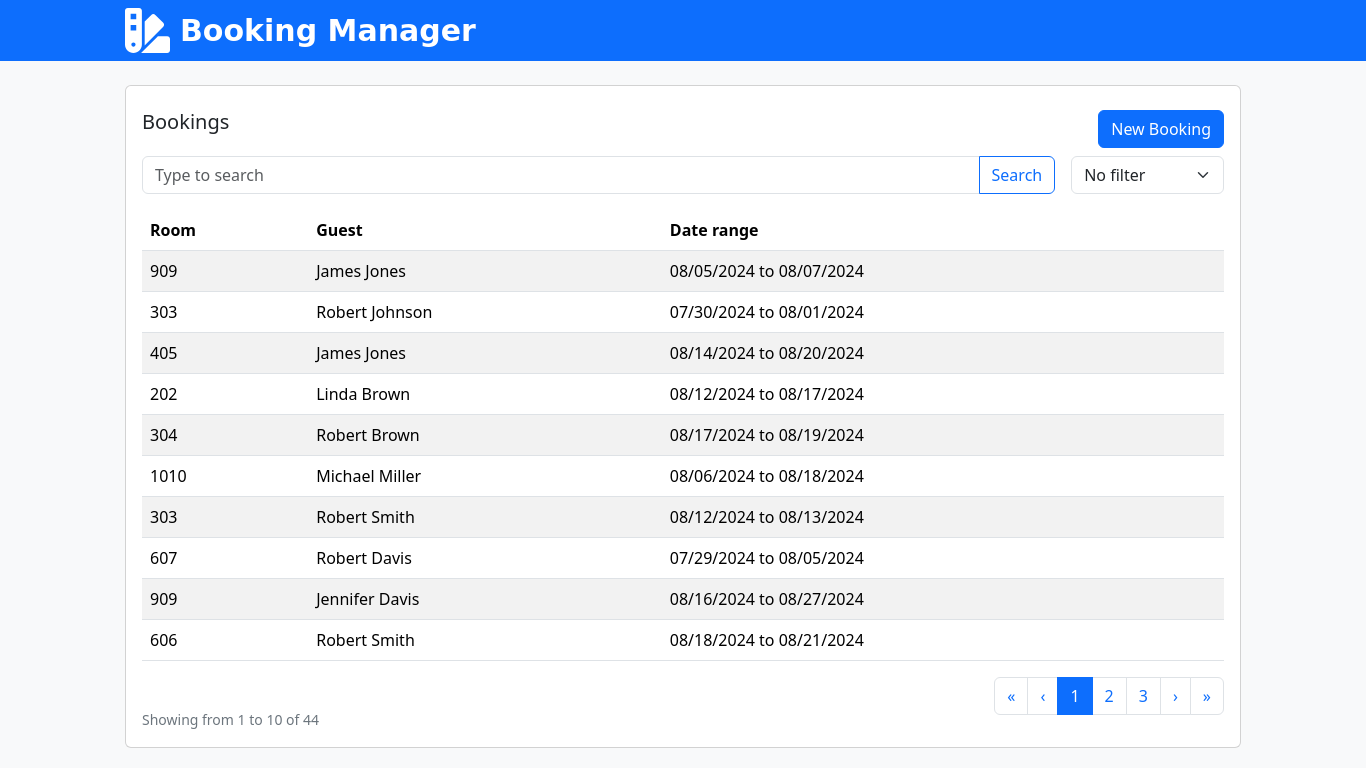
it: Import multiple reservations and test pagination and filters › Delete booking
Expected: the field with id "search-table-bookings" is shown, [142, 156, 980, 194]
Expected: the text with id "showing-table" reads "Showing from 1 to 10 of 44", [142, 710, 319, 729]
Click the row "909 James Jones 08/05/2024 to 08/07/2024" at (683, 272), box [142, 251, 1224, 292]
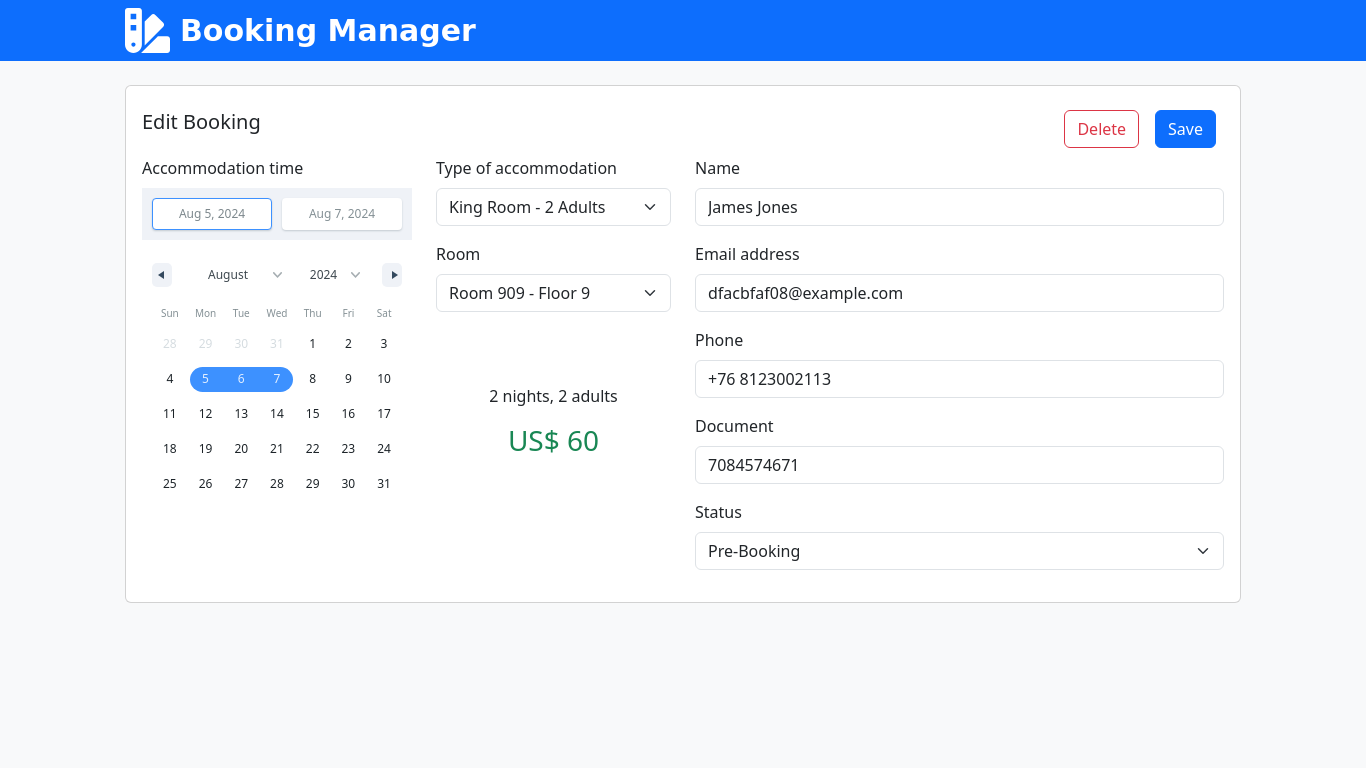
Now the button with id "button-delete-booking" is shown
Click the button with id "button-delete-booking" at (1102, 129), box [1064, 110, 1139, 148]
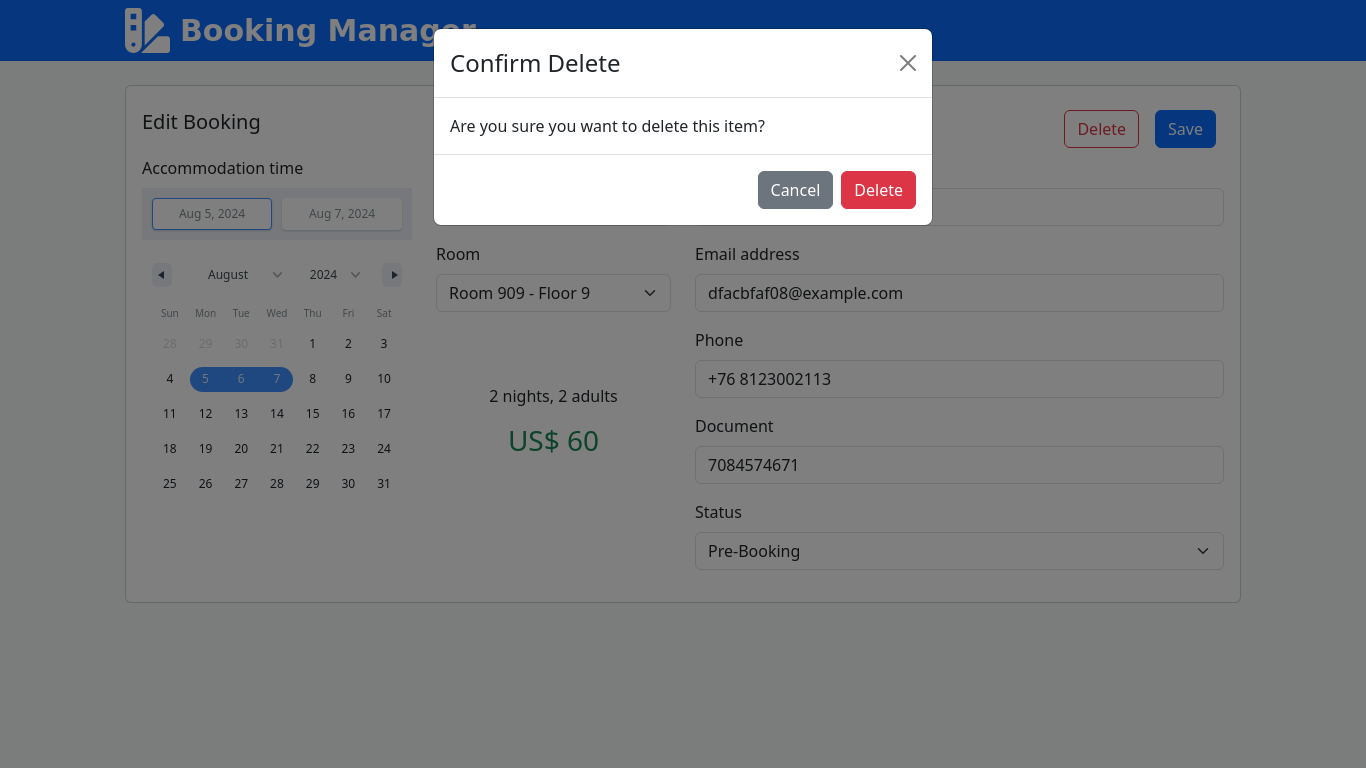
Now the element with class "modal-content" is shown, box [433, 28, 933, 226]
Now the button with id "button-confirm-delete" is shown
Click the button with id "button-confirm-delete" at (879, 190), box [841, 171, 916, 209]
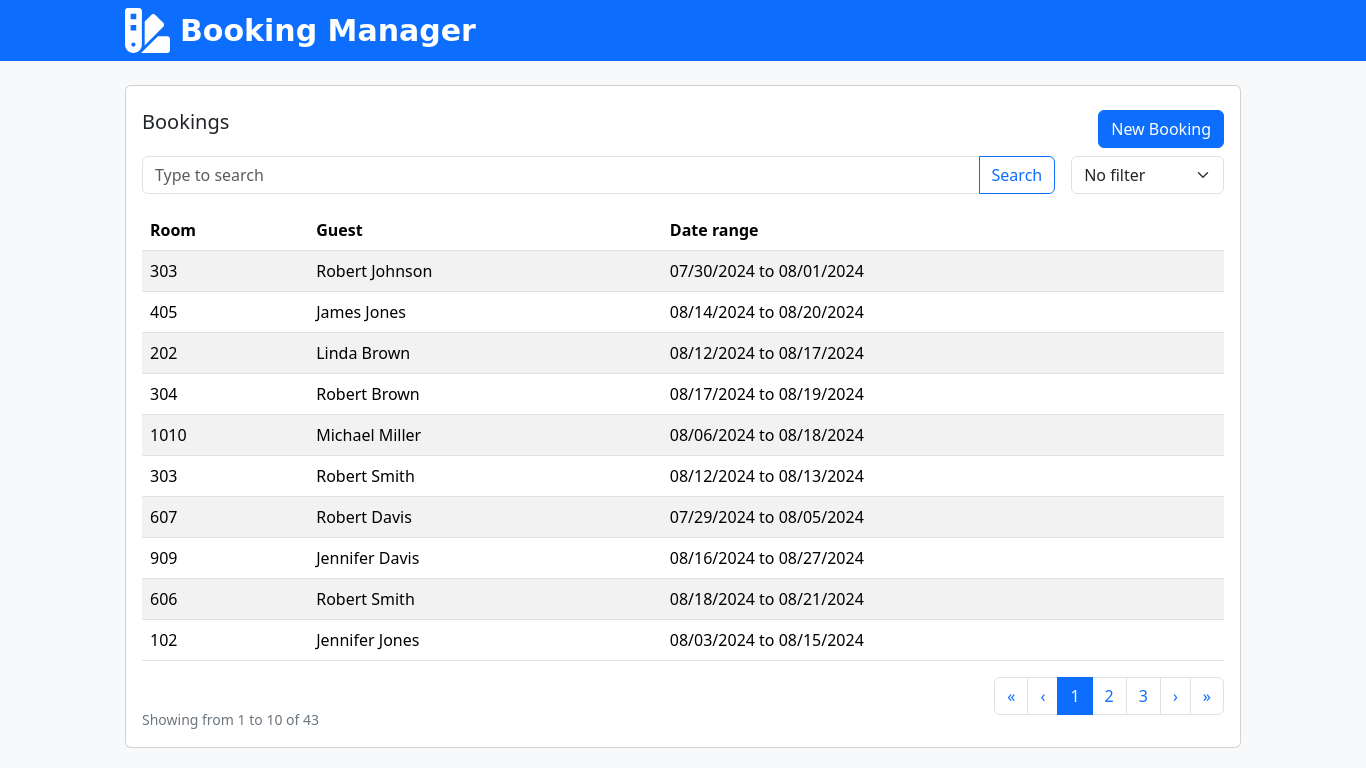
Now the text with id "showing-table" reads "Showing from 1 to 10 of 43", box [142, 710, 319, 729]
